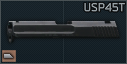HK USP Tactical .45 ACP pistol slide: (0, 0, 127, 64)
